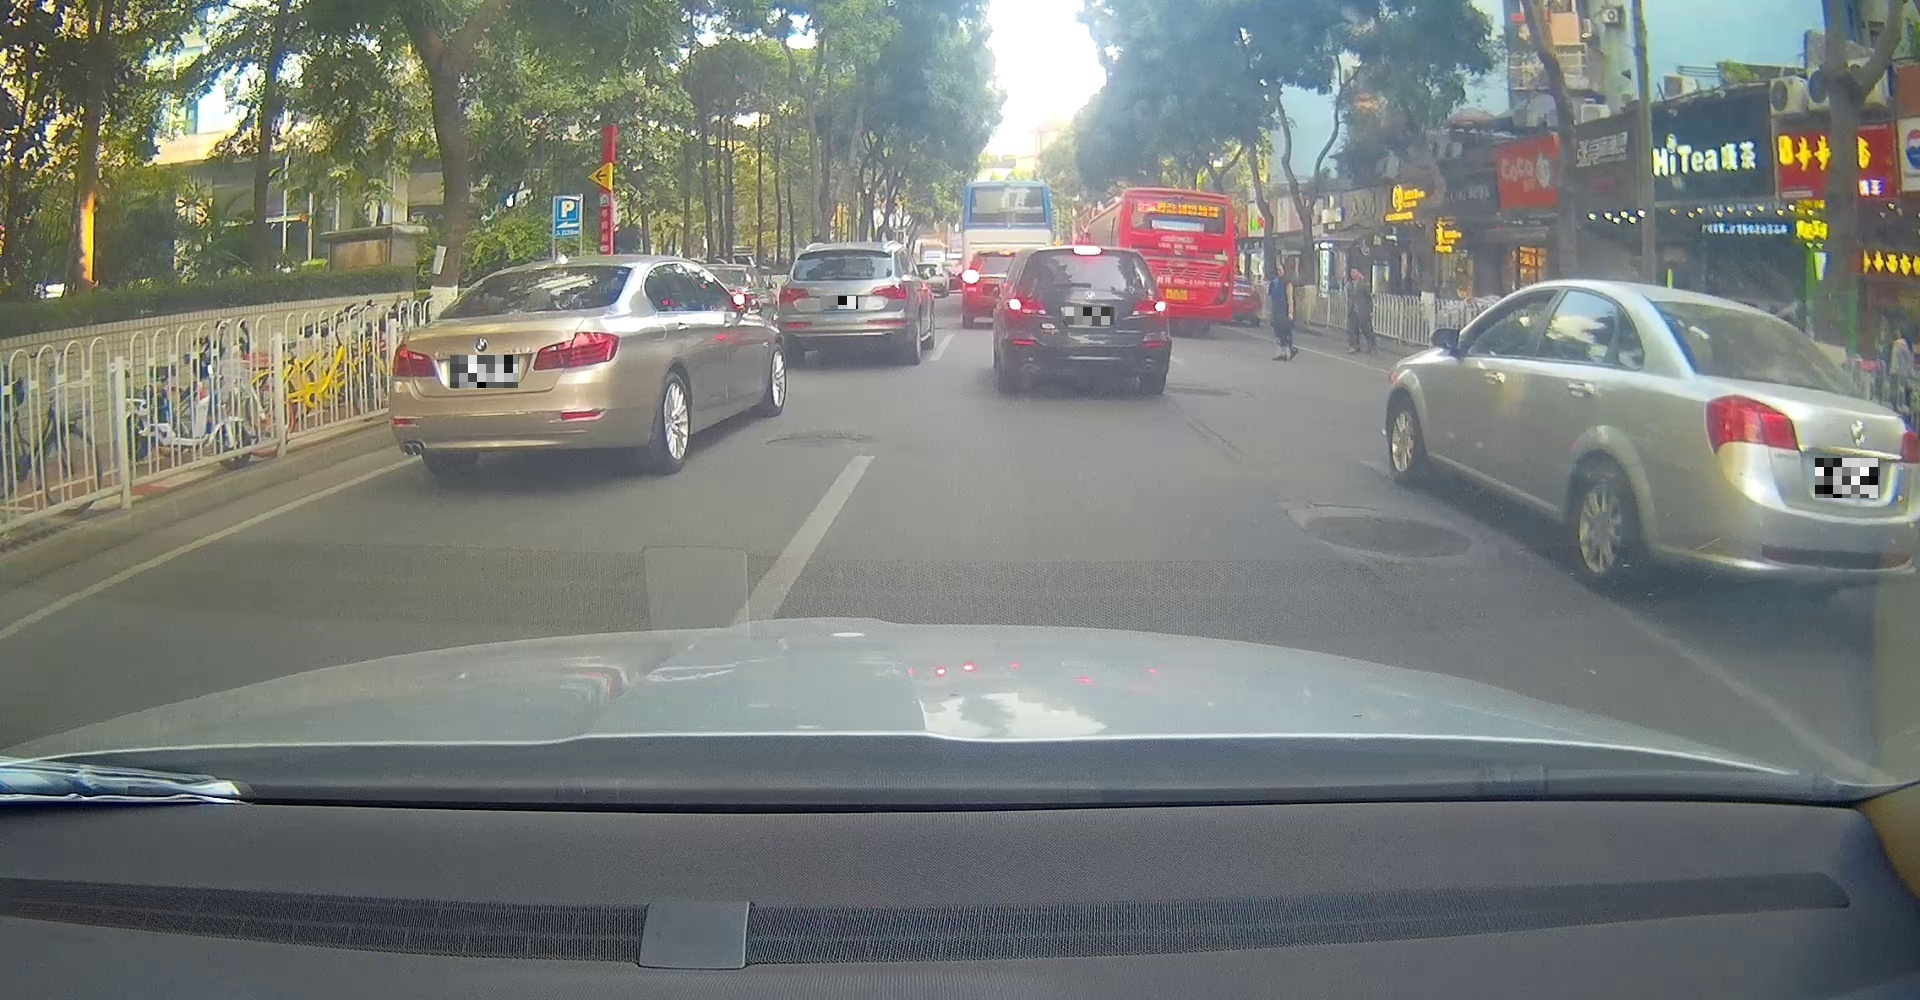L_light: (1704, 393, 1802, 454), (390, 341, 437, 379), (1004, 296, 1044, 316), (777, 287, 811, 303)
R_light: (532, 330, 622, 371), (1898, 429, 1920, 463), (1131, 296, 1168, 315), (870, 282, 907, 299)
T_light: (1784, 379, 1821, 390), (524, 263, 569, 270), (1073, 245, 1102, 256), (834, 247, 860, 255)
day-brake: (997, 244, 1170, 395)
day-no: (1646, 288, 1920, 593), (386, 259, 643, 473), (777, 242, 909, 364)
plate_1: (450, 355, 518, 388)
plate_2: (820, 296, 858, 308)
plate_3: (1065, 307, 1114, 325)
plate_4: (1815, 458, 1879, 497)
